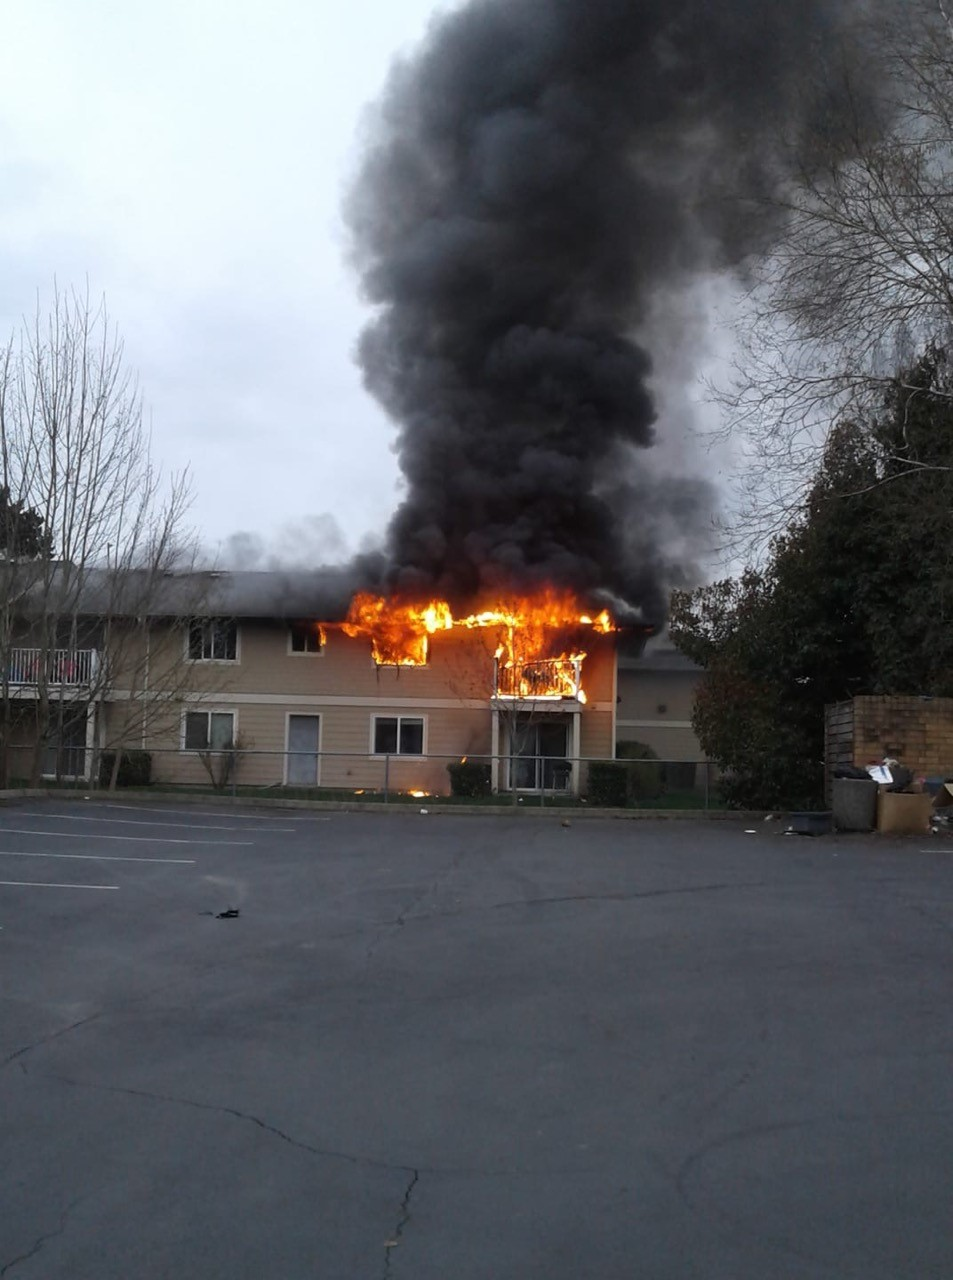fire: (340, 588, 615, 701)
smoke: (386, 10, 681, 581), (691, 10, 869, 237)
